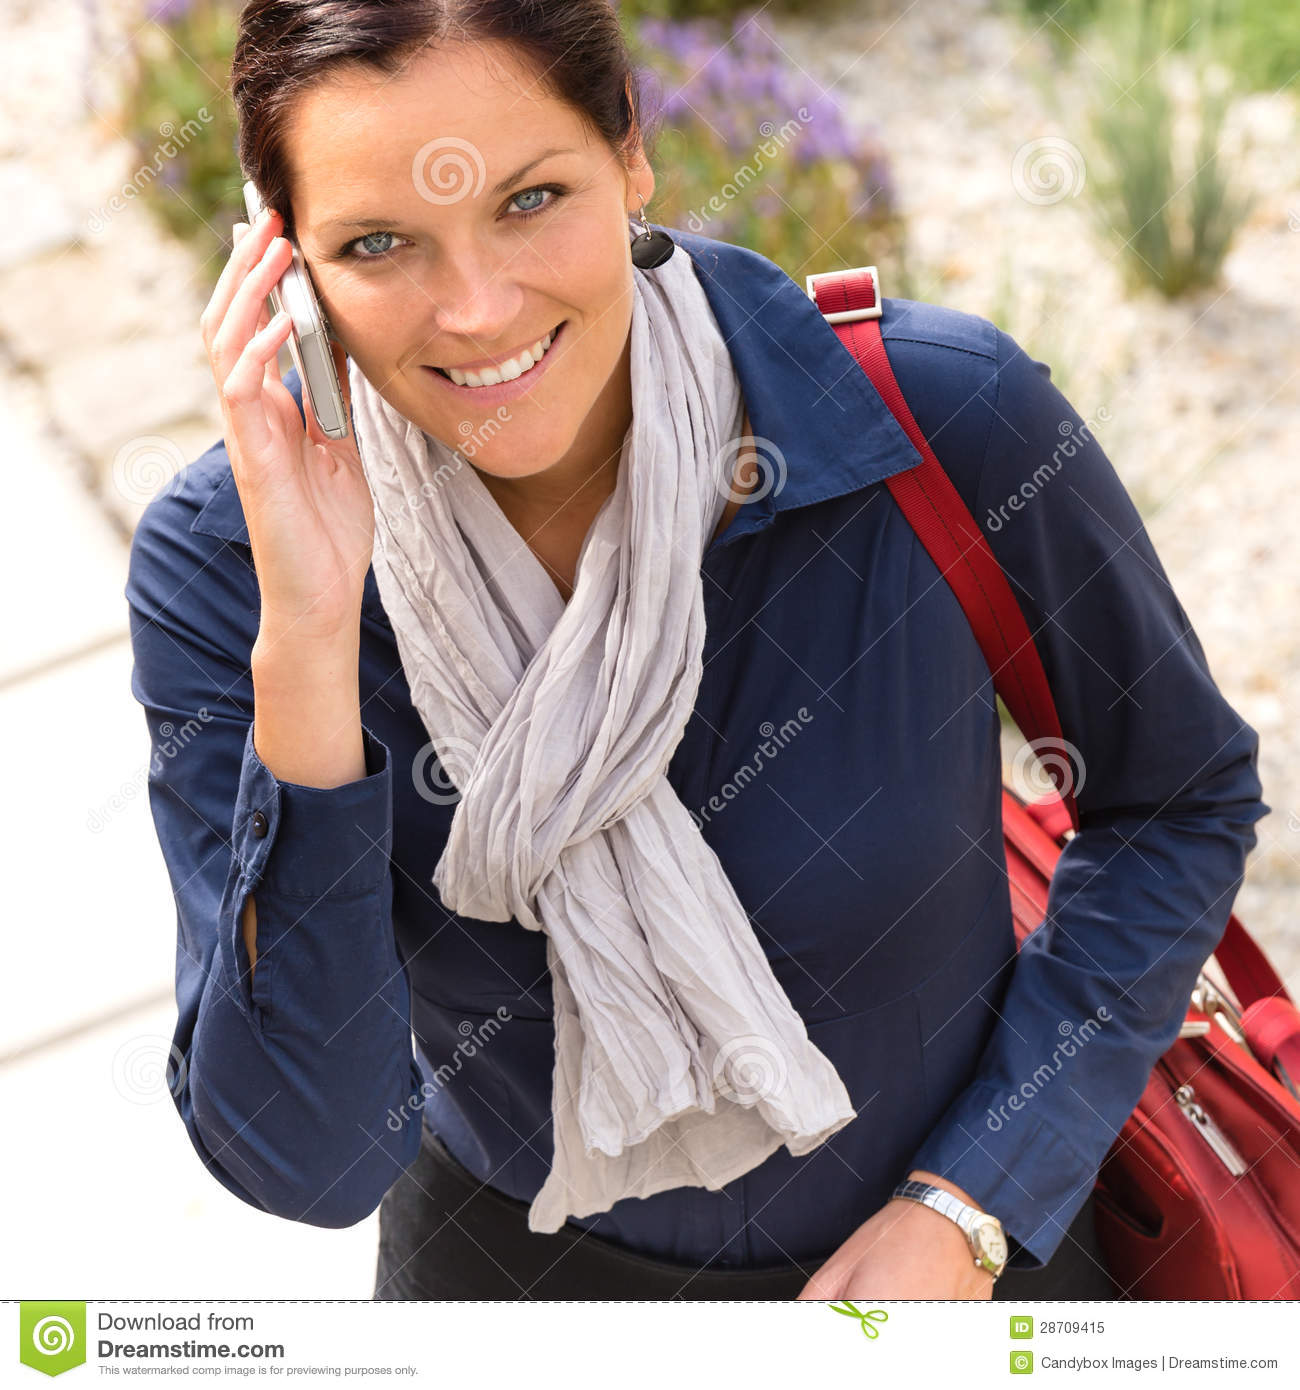phone: (235, 175, 354, 449)
talk: (187, 120, 621, 667)
